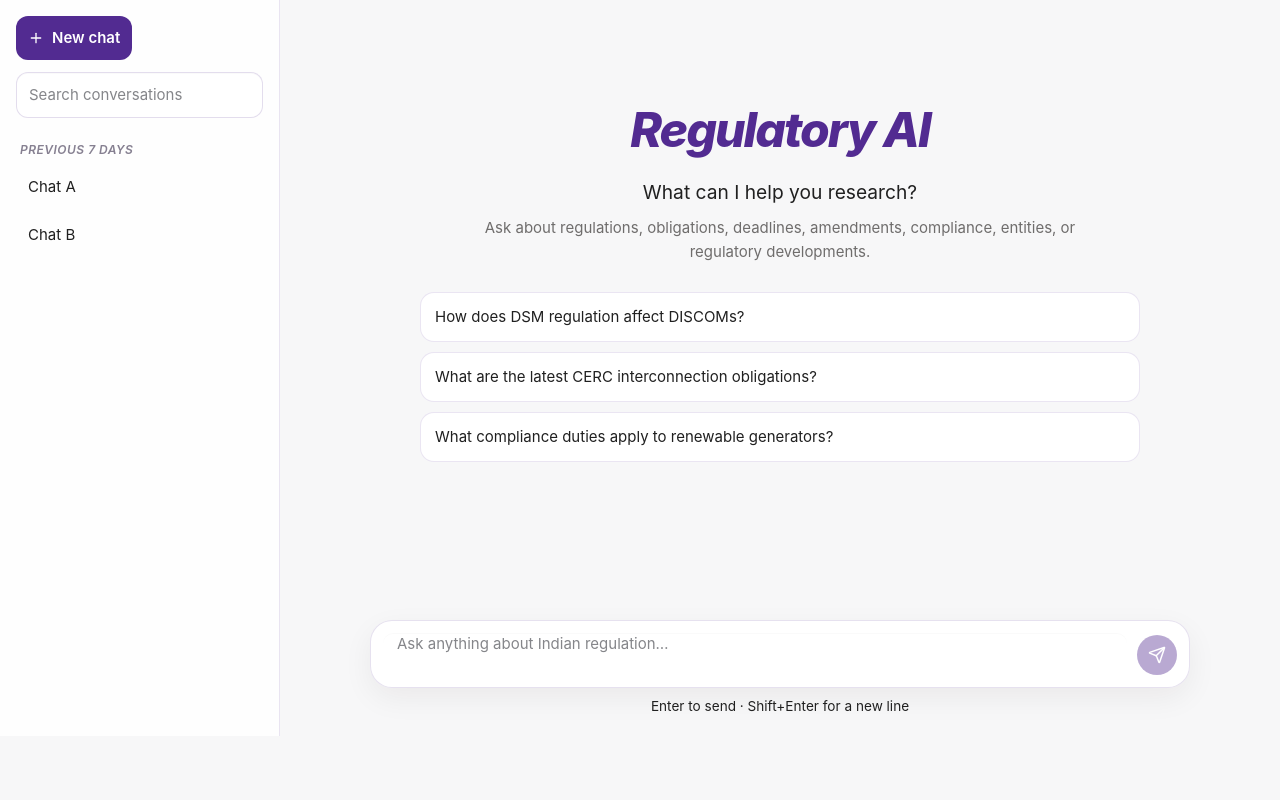
Scenario: AskConversationWorkspace › renders each restored answer with its own citations
Click the button "Chat A".
click(140, 187)  # box [16,165,263,209]
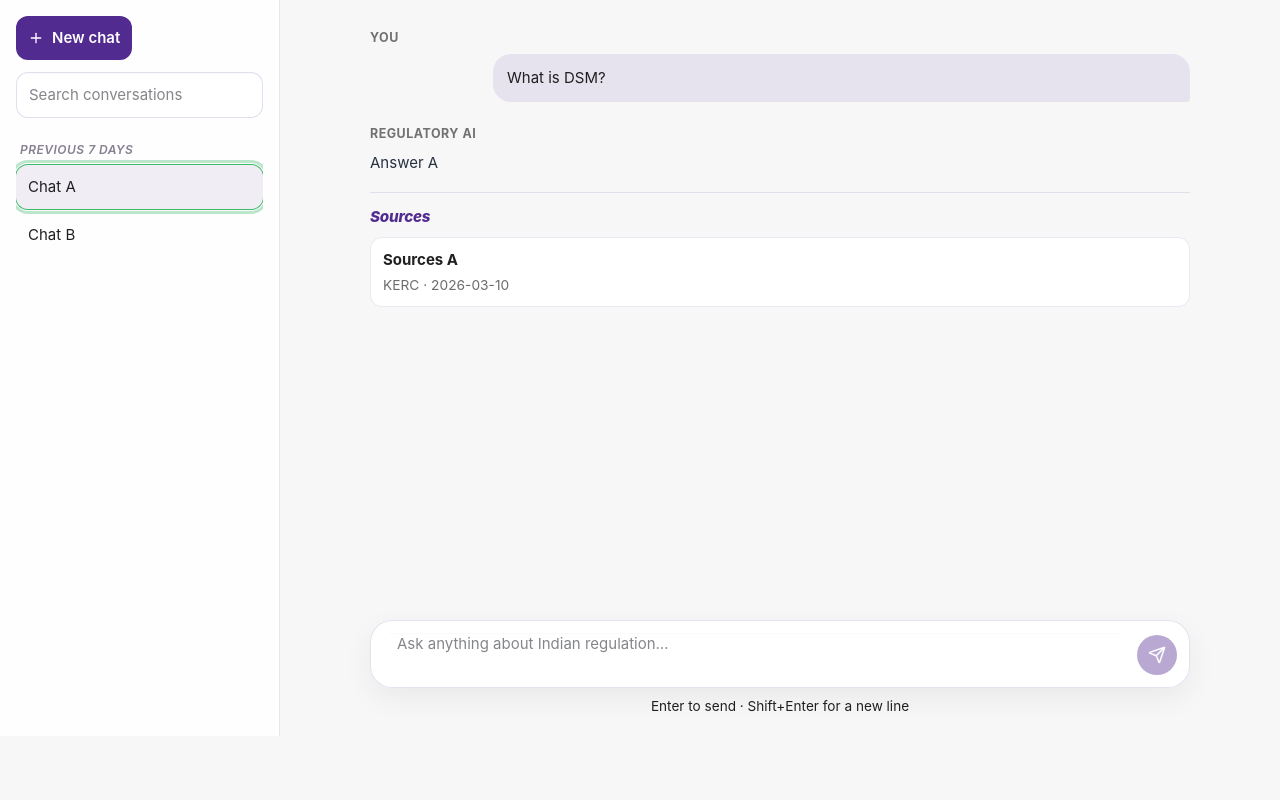
Expected: the text "Sources B" is not shown
Expected: the text "Answer A" is shown, [370,153,438,172]
Expected: the text "Sources A" is shown, [383,250,458,269]
Click the button "Chat B".
click(140, 235)  # box [16,213,263,257]
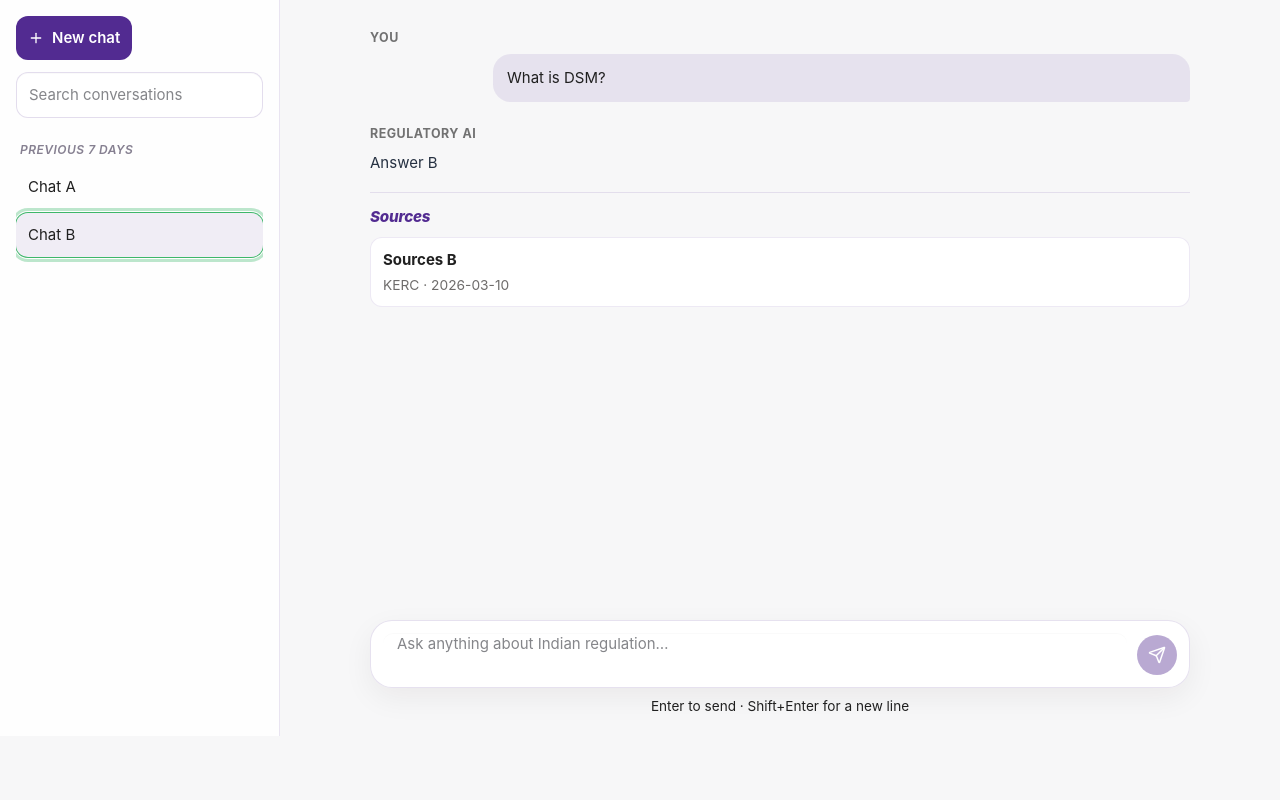
Expected: the text "Answer B" is shown, [370,153,438,172]
Expected: the text "Sources B" is shown, [383,250,457,269]
Expected: the button "Sources A" is gone
